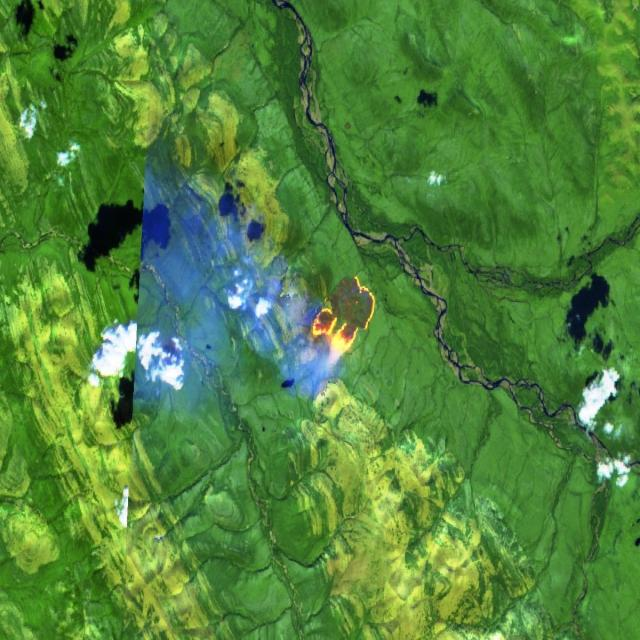fire: (308, 267, 380, 370)
